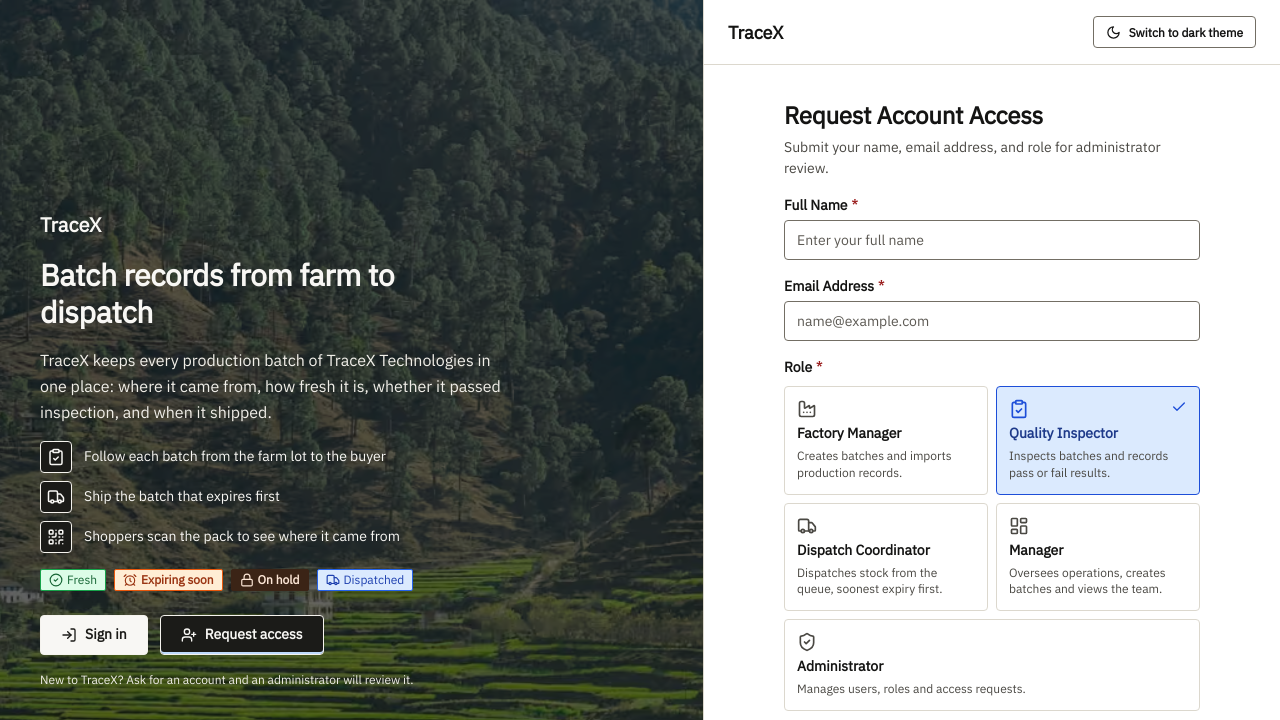
Scenario: API Client, Token Store, Route Guards, and Auth Screens (Part D) › validates RequestAccessPage and displays server field errors under matching fields
Type "Asha Rao" into the field labelled "Full Name *" at (992, 240), box [784,220,1200,260]
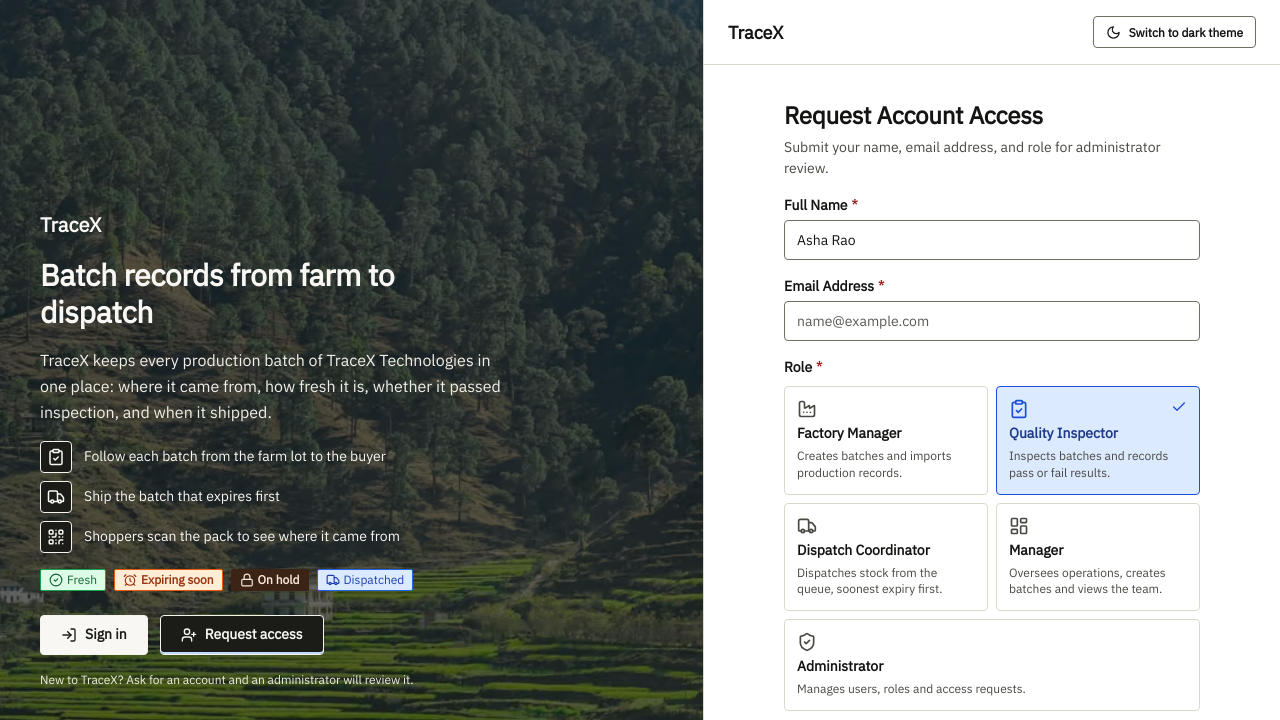
Type "asha@tracex.local" into the field labelled "Email Address *" at (992, 321), box [784,301,1200,341]
(page scrolled)
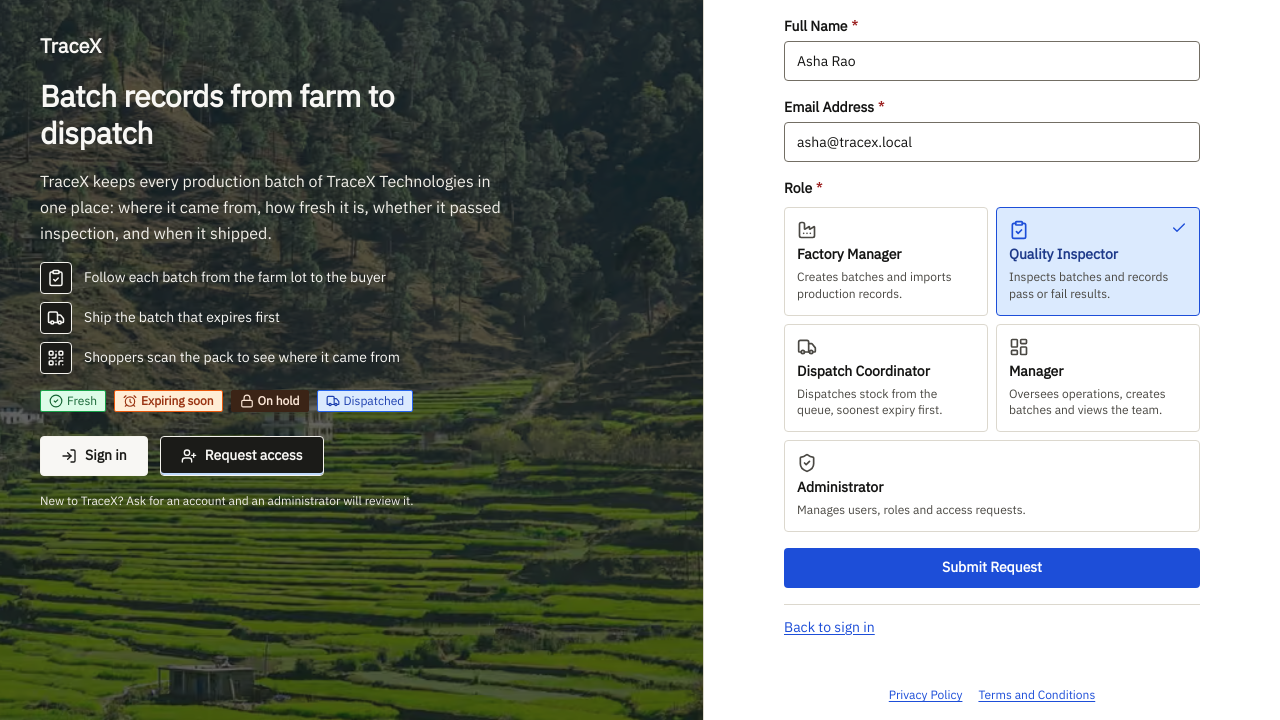
Click the button "Submit Request" at (992, 568), box [784,548,1200,588]
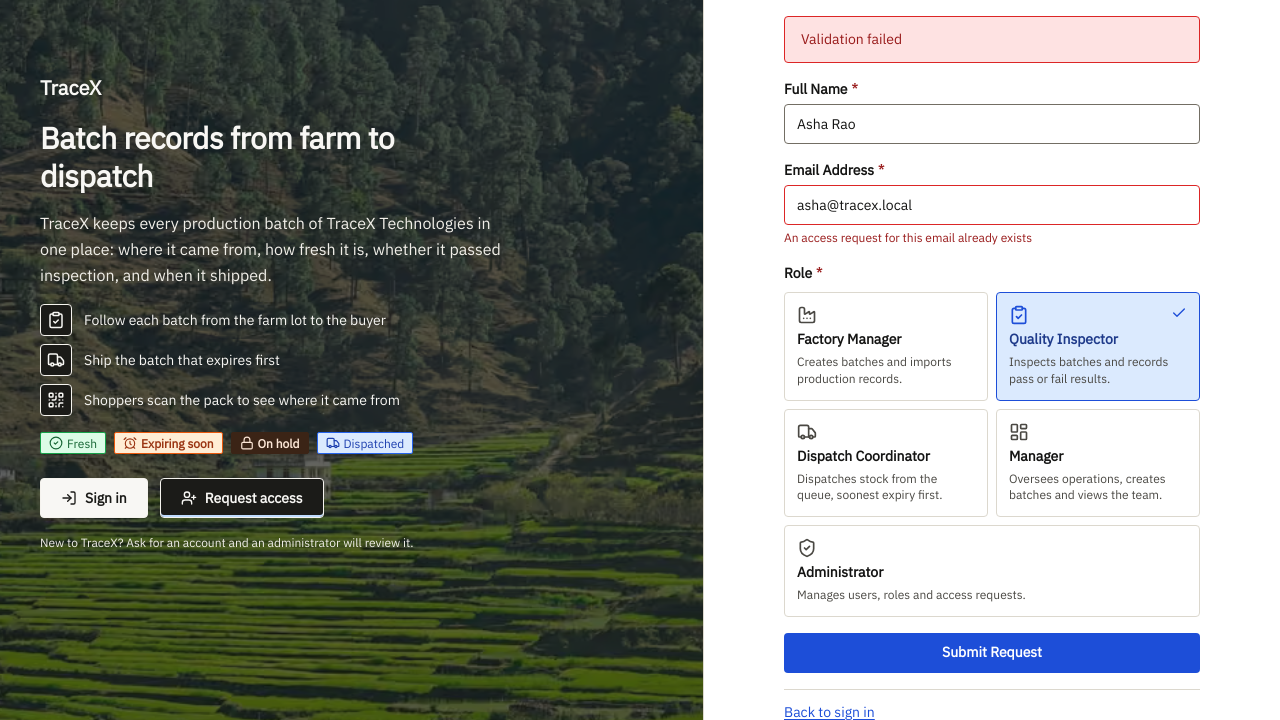
Expected: the text "An access request for this email already exists" is shown, [784,230,1032,245]
